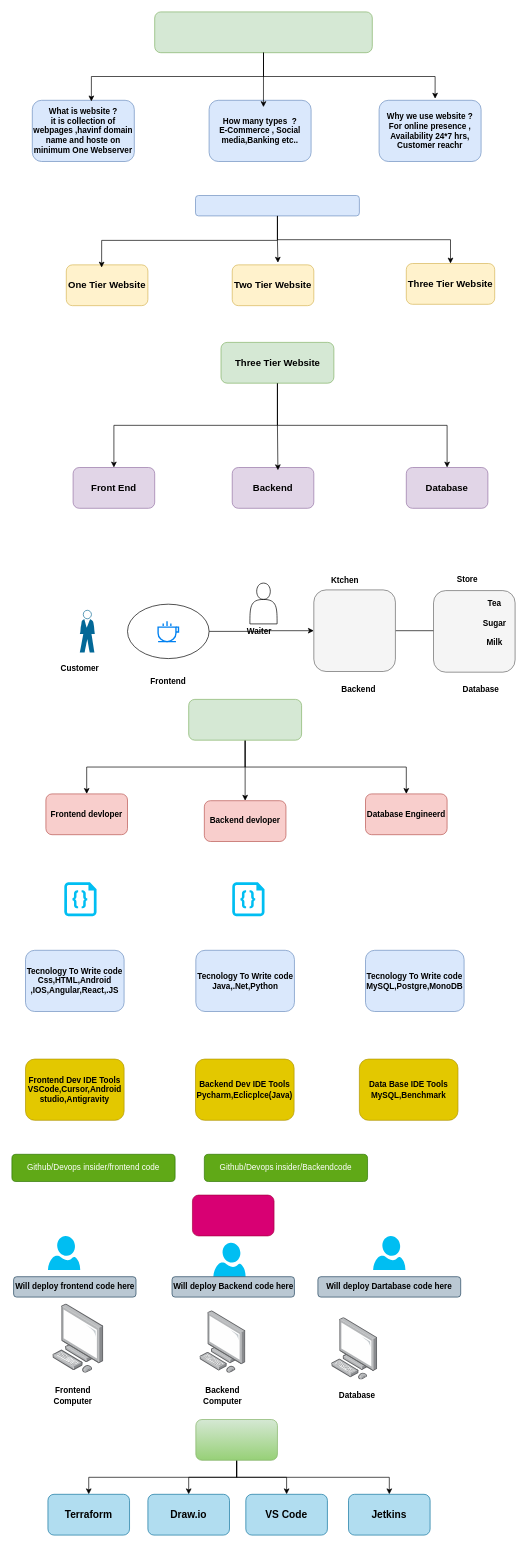
Some shapes in this 527 by 1547 pixel diagram are drawn without their labels. The shapes that lost their labels are listed below. From the top down, each one's box as (x1, y1, x2, y2) in pixels, then its label:
(154, 11, 372, 53): website
(195, 195, 359, 216): How many types ?
(313, 589, 395, 672): Chef
(188, 699, 302, 740): Three Tier Architecture
(192, 1194, 274, 1236): DevOps Engineer Role
(195, 1419, 277, 1460): Devops Engineer Tools
